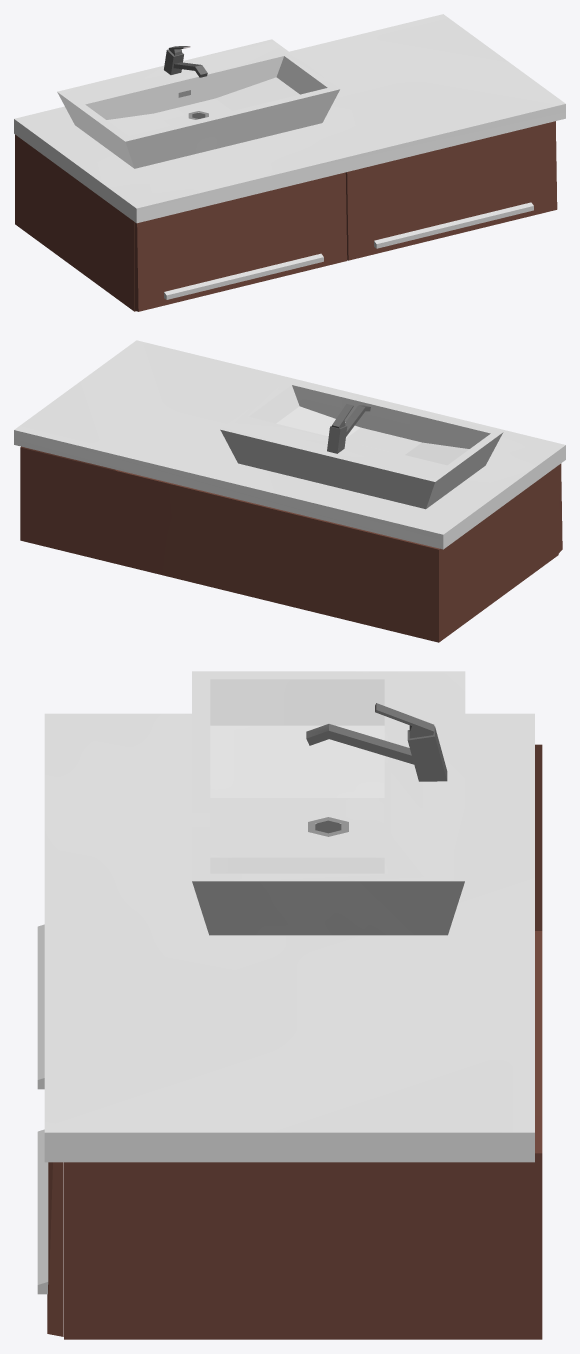
File: bathroom_item_004.glb
3 views of the same model, one above another, from view 1: azimuth 30°, elevation 25°; view 2: azimuth 150°, elevation 25°; view 3: azimuth 270°, elevation 25° (orthographic). The views are drawn at different scales.
Parts seen in each view (by area): view 1: bathroom_item_004; view 2: bathroom_item_004; view 3: bathroom_item_004.
Part boxes in pixels (bbox=[...]): bathroom_item_004: bbox=[14, 14, 565, 311]; bathroom_item_004: bbox=[14, 340, 565, 642]; bathroom_item_004: bbox=[37, 671, 542, 1339].
Size of the model in its own units: 1.1 by 0.4305 by 0.5593.
1 material, 1 textured.
